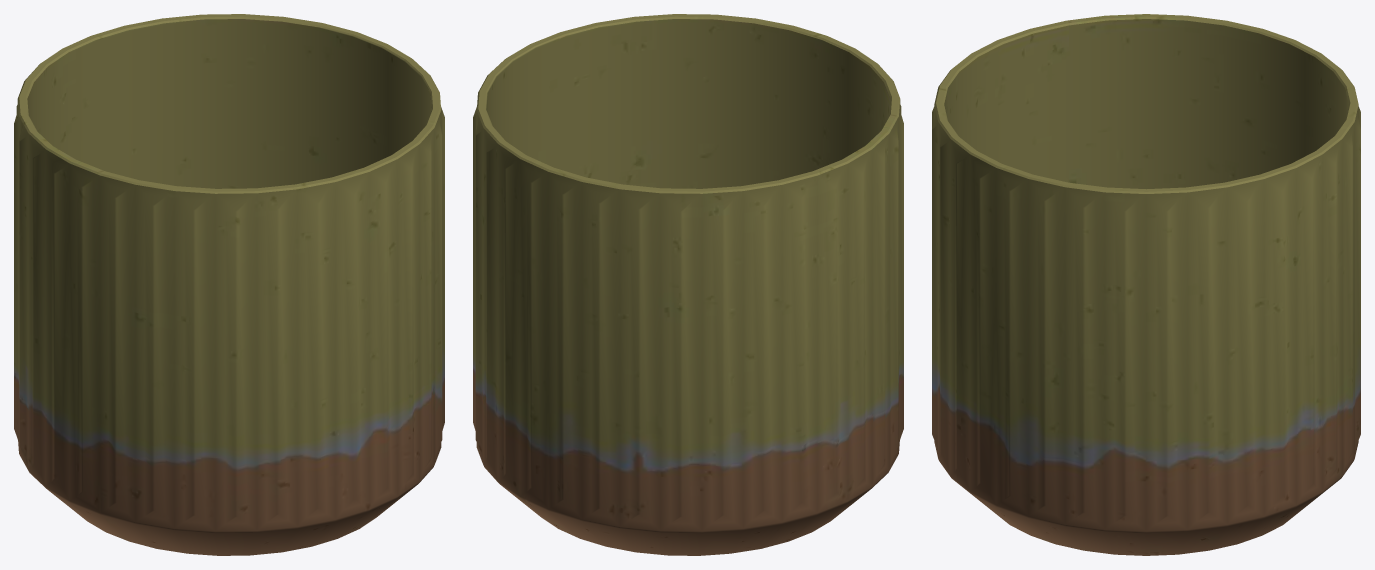
File: ceramic_pot.glb
The picture shows the model from 3 angles, left to right: view 1: azimuth 30°, elevation 25°; view 2: azimuth 150°, elevation 25°; view 3: azimuth 270°, elevation 25°; orthographic projection.
Parts seen in each view (by area): view 1: Ceramic_pot; view 2: Ceramic_pot; view 3: Ceramic_pot.
Part boxes in pixels (bbox=[...]): Ceramic_pot: bbox=[14, 14, 444, 555]; Ceramic_pot: bbox=[473, 14, 903, 555]; Ceramic_pot: bbox=[932, 14, 1360, 555].
Size of the model in its own units: 0.1314 by 0.131 by 0.1314.
Materials: 1 (1 with a texture image).
